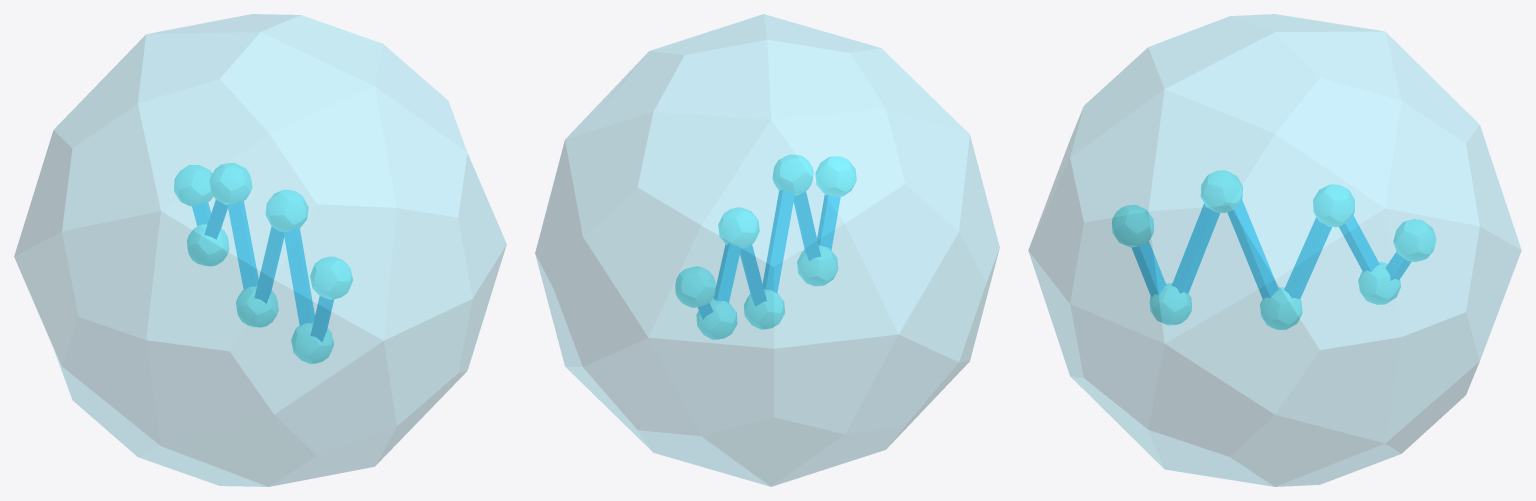
The model's file is orb.glb.
3 renders of one model, left to right at view 1: azimuth 30°, elevation 25°; view 2: azimuth 150°, elevation 25°; view 3: azimuth 270°, elevation 25°, orthographic. The views are drawn at different scales.
Visible parts, largest first — view 1: group7 polySurface14, polySurface13 group7; view 2: group7 polySurface14, polySurface13 group7; view 3: group7 polySurface14, polySurface13 group7.
Boxes of the visible parts, x1=… form: group7 polySurface14: x1=14, y1=14, x2=506, y2=486; polySurface13 group7: x1=174, y1=163, x2=352, y2=363; group7 polySurface14: x1=535, y1=14, x2=999, y2=486; polySurface13 group7: x1=675, y1=154, x2=856, y2=339; group7 polySurface14: x1=1028, y1=14, x2=1521, y2=486; polySurface13 group7: x1=1112, y1=170, x2=1436, y2=329.
Size of the model in its own units: 0.3189 by 0.3254 by 0.3333.
Materials: 2 (1 with a texture image).
